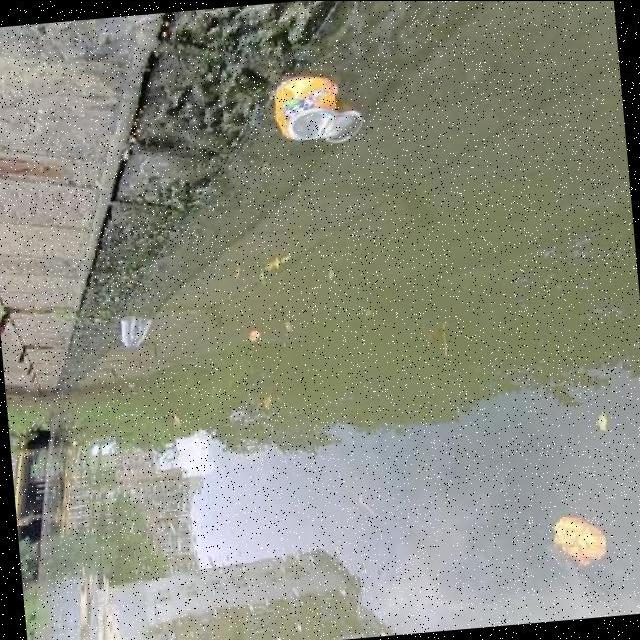Can: (273, 72, 364, 142)
